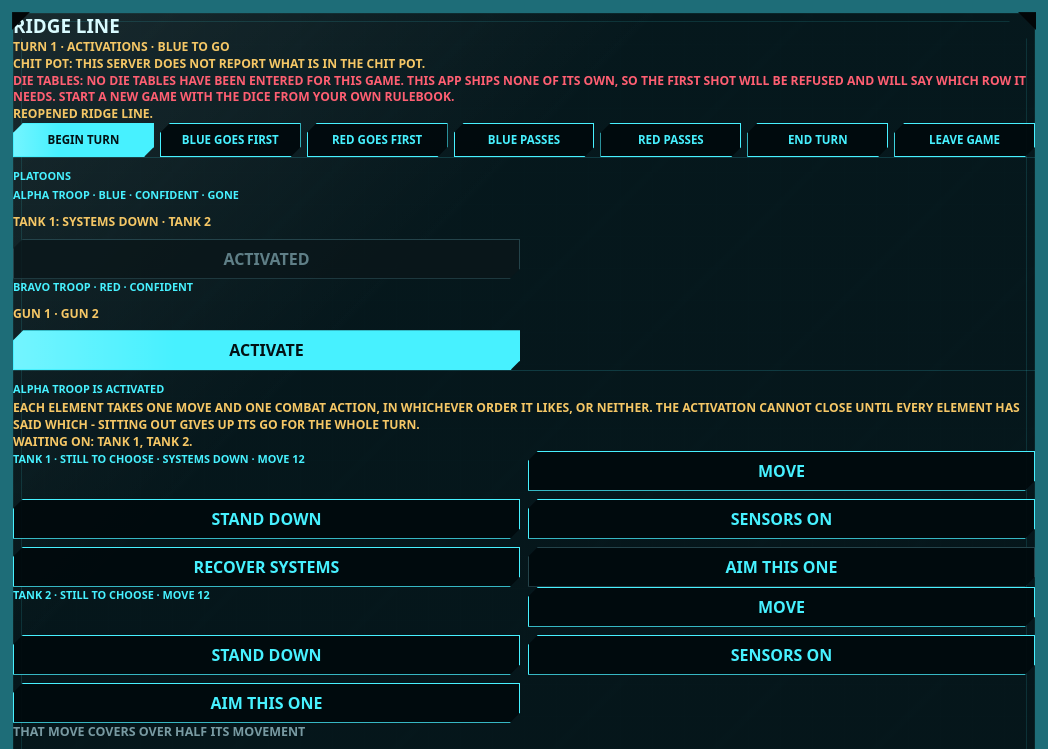
Scenario: Dirtside systems-down recovery › tries to recover an element the game says can try
Check: the text "Reopened Ridge Line." is shown, box [13,105,153,122]
Click the button with aria-label "Recover systems on Tank 1".
click(266, 567)  # box [13,547,520,587]
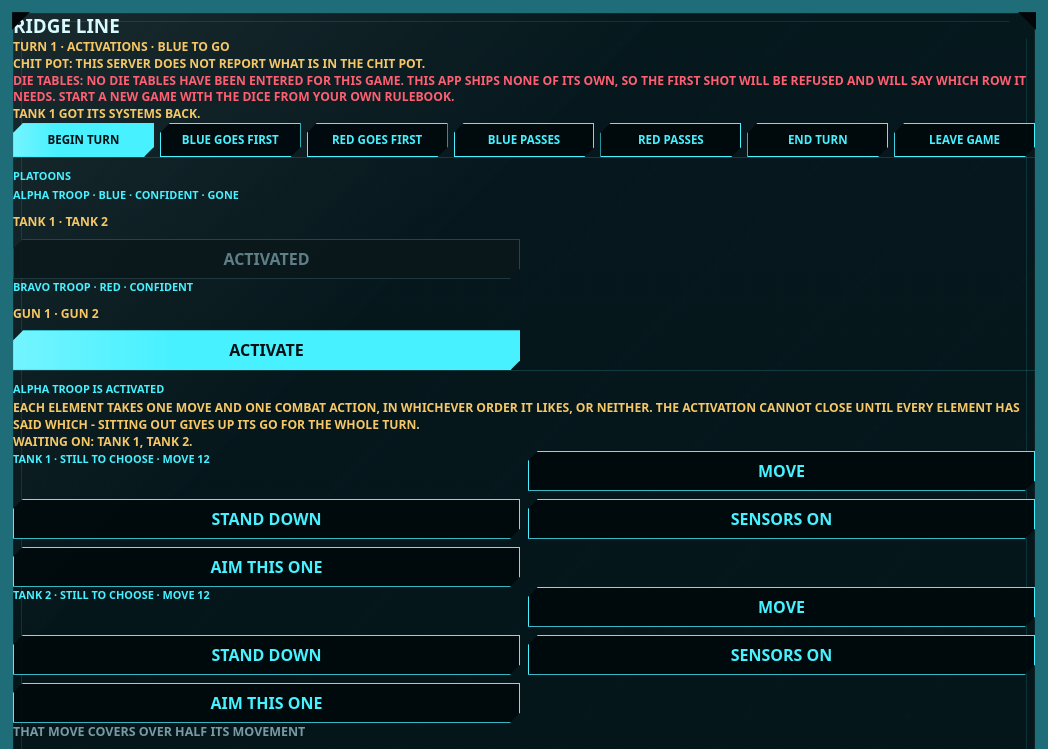
Check: the text "Tank 1 got its systems back." is shown, box [13,105,200,122]
